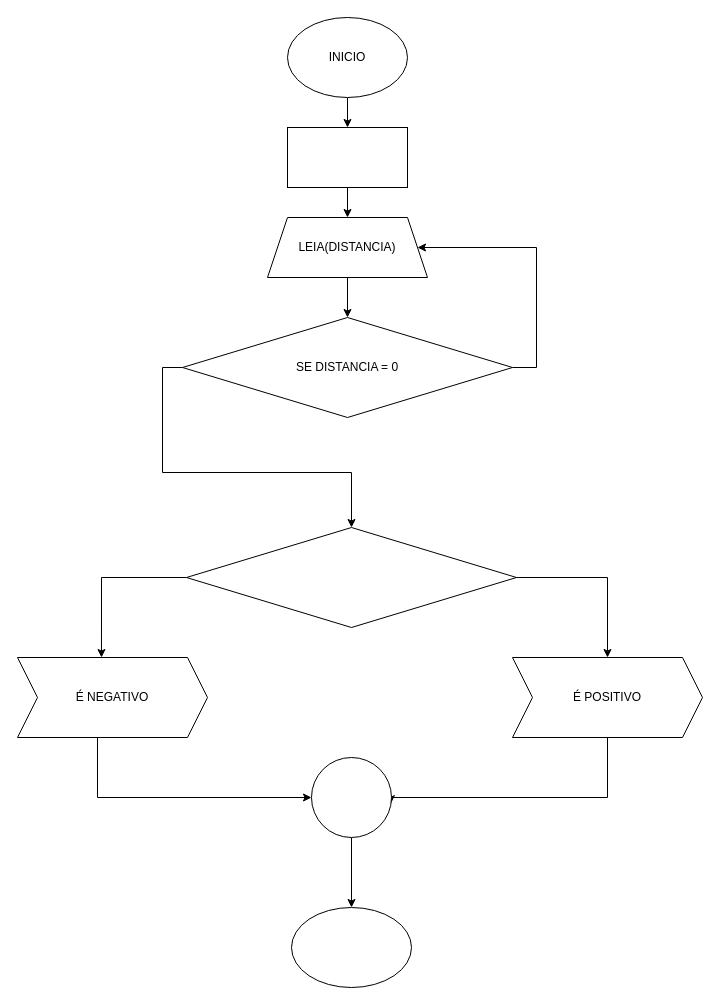
The diagram is 720 pixels wide and 1005 high, and some of its shapes have lost their labels. Each missing label, with the box of its shape:
DISTANCIA: INTEIRO: (286, 126, 408, 188)
FIM: (290, 906, 412, 988)
SE DISTANCIA > 0: (186, 526, 516, 628)
